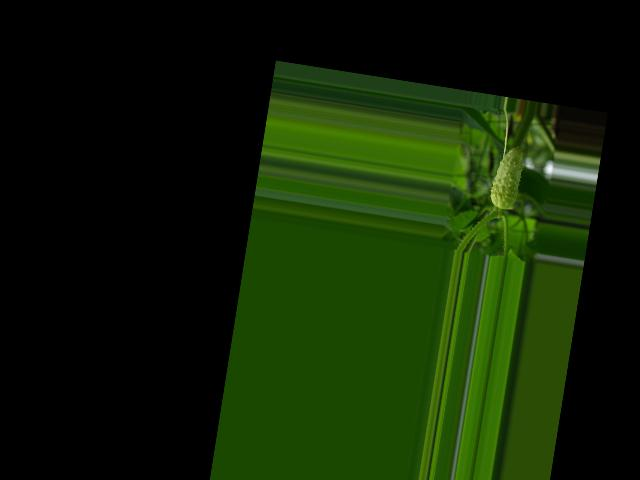cucumber: (487, 142, 525, 211)
